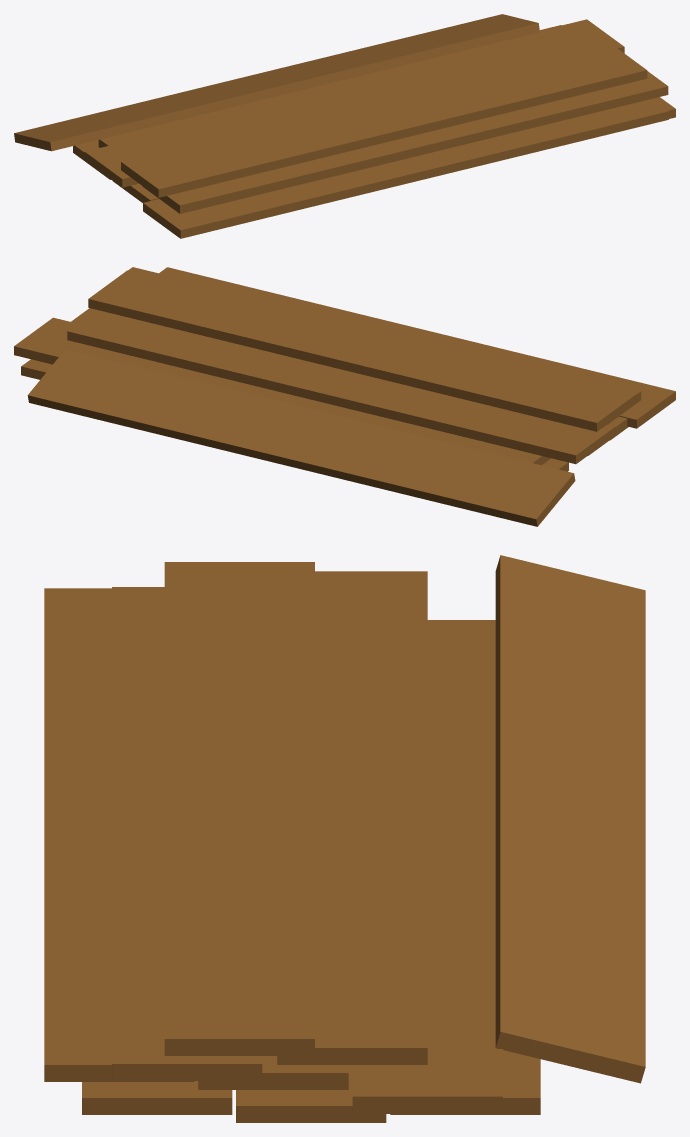
Rendered from PlankPile.fbx.
3 views of the same model, one above another, from view 1: azimuth 30°, elevation 25°; view 2: azimuth 150°, elevation 25°; view 3: azimuth 270°, elevation 25° (orthographic). The views are drawn at different scales.
Parts seen in each view (by area): view 1: PlankPile; view 2: PlankPile; view 3: PlankPile.
Boxes of the visible parts, left/top/right/bottom form: PlankPile: left=14, top=14, right=675, bottom=238; PlankPile: left=14, top=267, right=675, bottom=526; PlankPile: left=44, top=555, right=645, bottom=1122.
Size of the model in its own units: 330 by 20.09 by 160.
